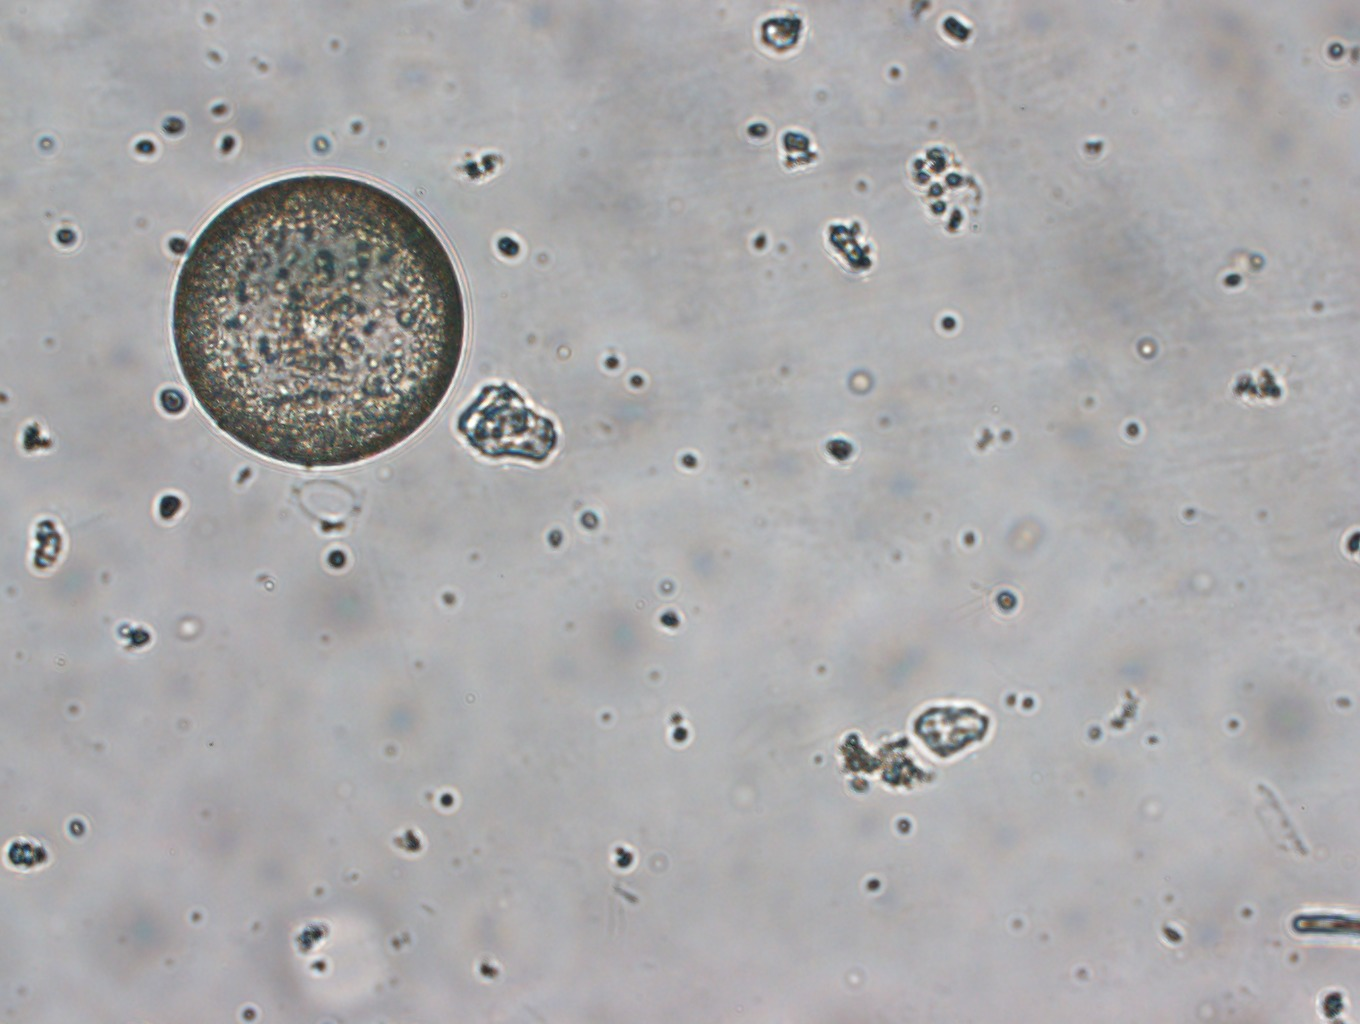coscinodiscus: (160, 170, 471, 474)
